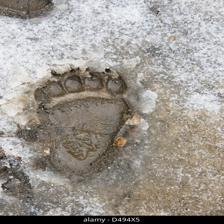bear: (35, 67, 137, 173)
